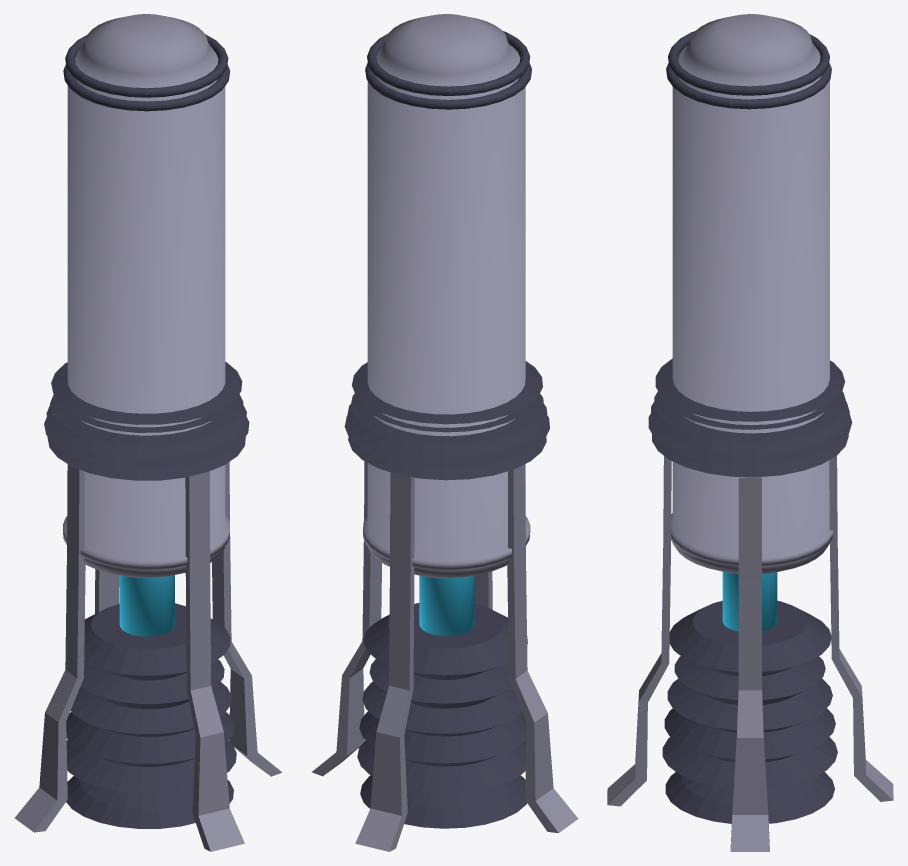
The model's file is SM_charging_battery.fbx.
3 views of the same model, side by side, from view 1: azimuth 30°, elevation 25°; view 2: azimuth 150°, elevation 25°; view 3: azimuth 270°, elevation 25° (orthographic).
Visible parts, largest first — view 1: Cylinder.003; view 2: Cylinder.003; view 3: Cylinder.003.
Boxes of the visible parts, x1,y1,x2,y2 form: Cylinder.003: [14, 14, 281, 851]; Cylinder.003: [312, 14, 578, 851]; Cylinder.003: [607, 14, 893, 851].
Bounding box in the file's own units: 218 × 647 × 219.
